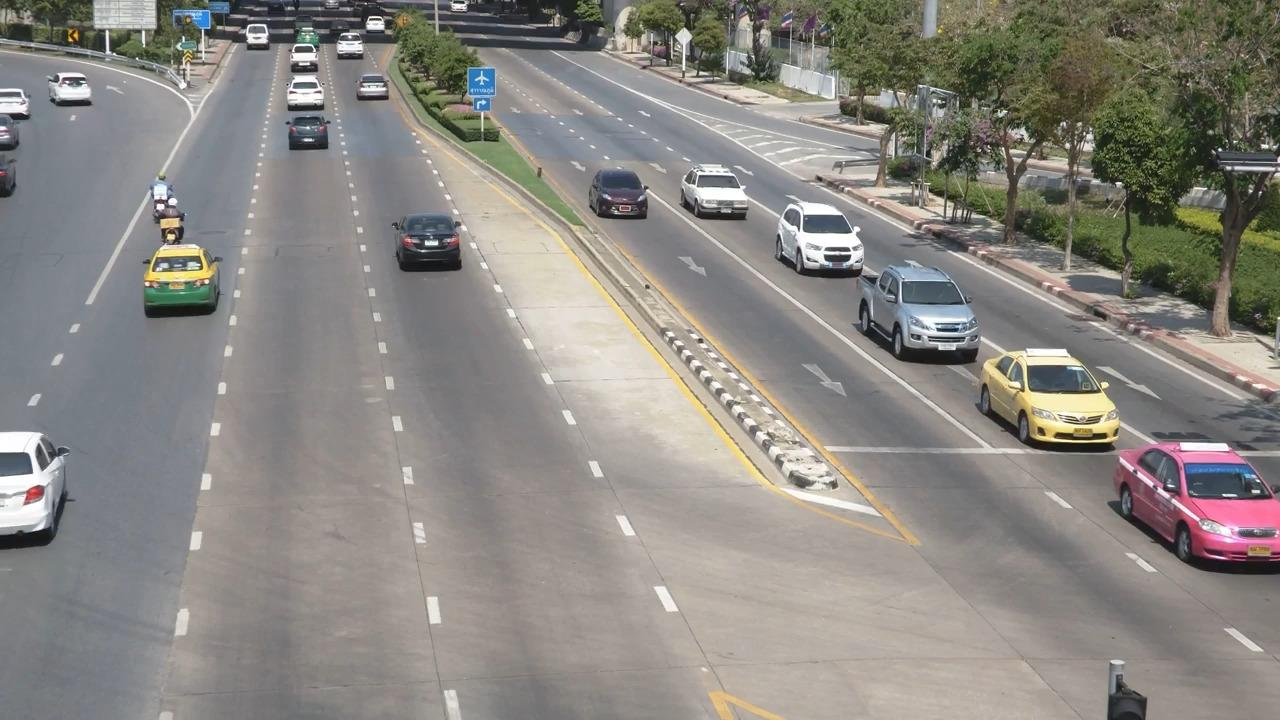CAR: (1105, 429, 1280, 574), (969, 336, 1126, 452), (865, 256, 987, 364), (0, 413, 75, 568), (133, 235, 243, 338), (771, 197, 872, 285), (382, 201, 477, 290), (583, 161, 660, 229), (675, 153, 753, 218), (276, 107, 341, 161), (45, 58, 105, 109), (276, 91, 342, 137), (285, 77, 335, 121), (334, 47, 382, 91), (349, 69, 401, 109), (239, 19, 283, 64), (333, 30, 378, 66), (283, 42, 325, 78), (2, 79, 28, 125), (359, 11, 394, 41), (290, 22, 321, 50)
MOTOR: (155, 197, 193, 252), (143, 165, 177, 225)
